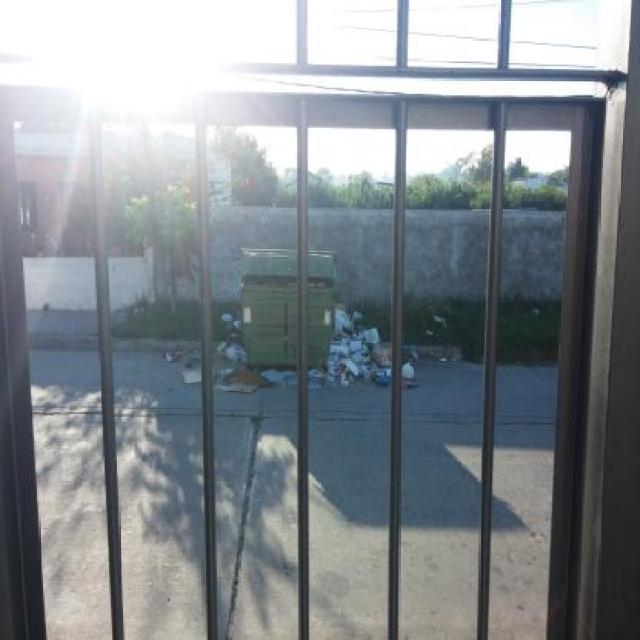garbage: (320, 311, 412, 396)
